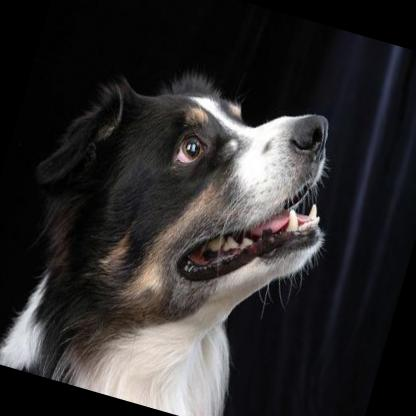Border_collie: (0, 29, 359, 416)
